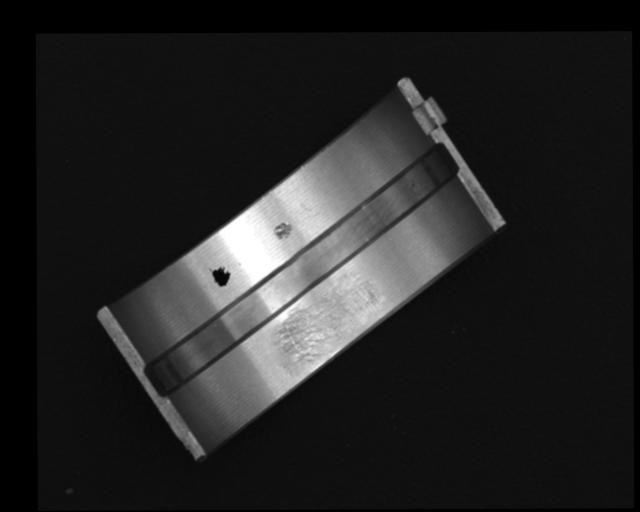blot: (208, 263, 231, 287)
bruise: (272, 219, 292, 240)
gap: (150, 144, 457, 396)
scratch: (274, 270, 379, 361)
